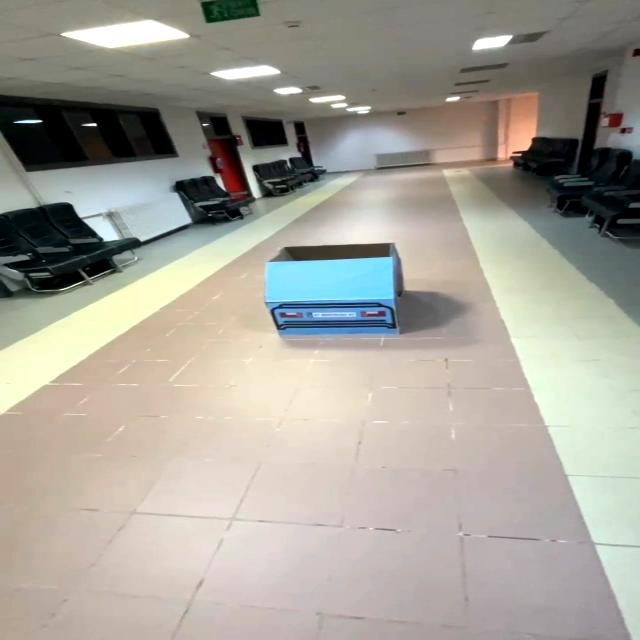blue_car: (244, 232, 420, 347)
